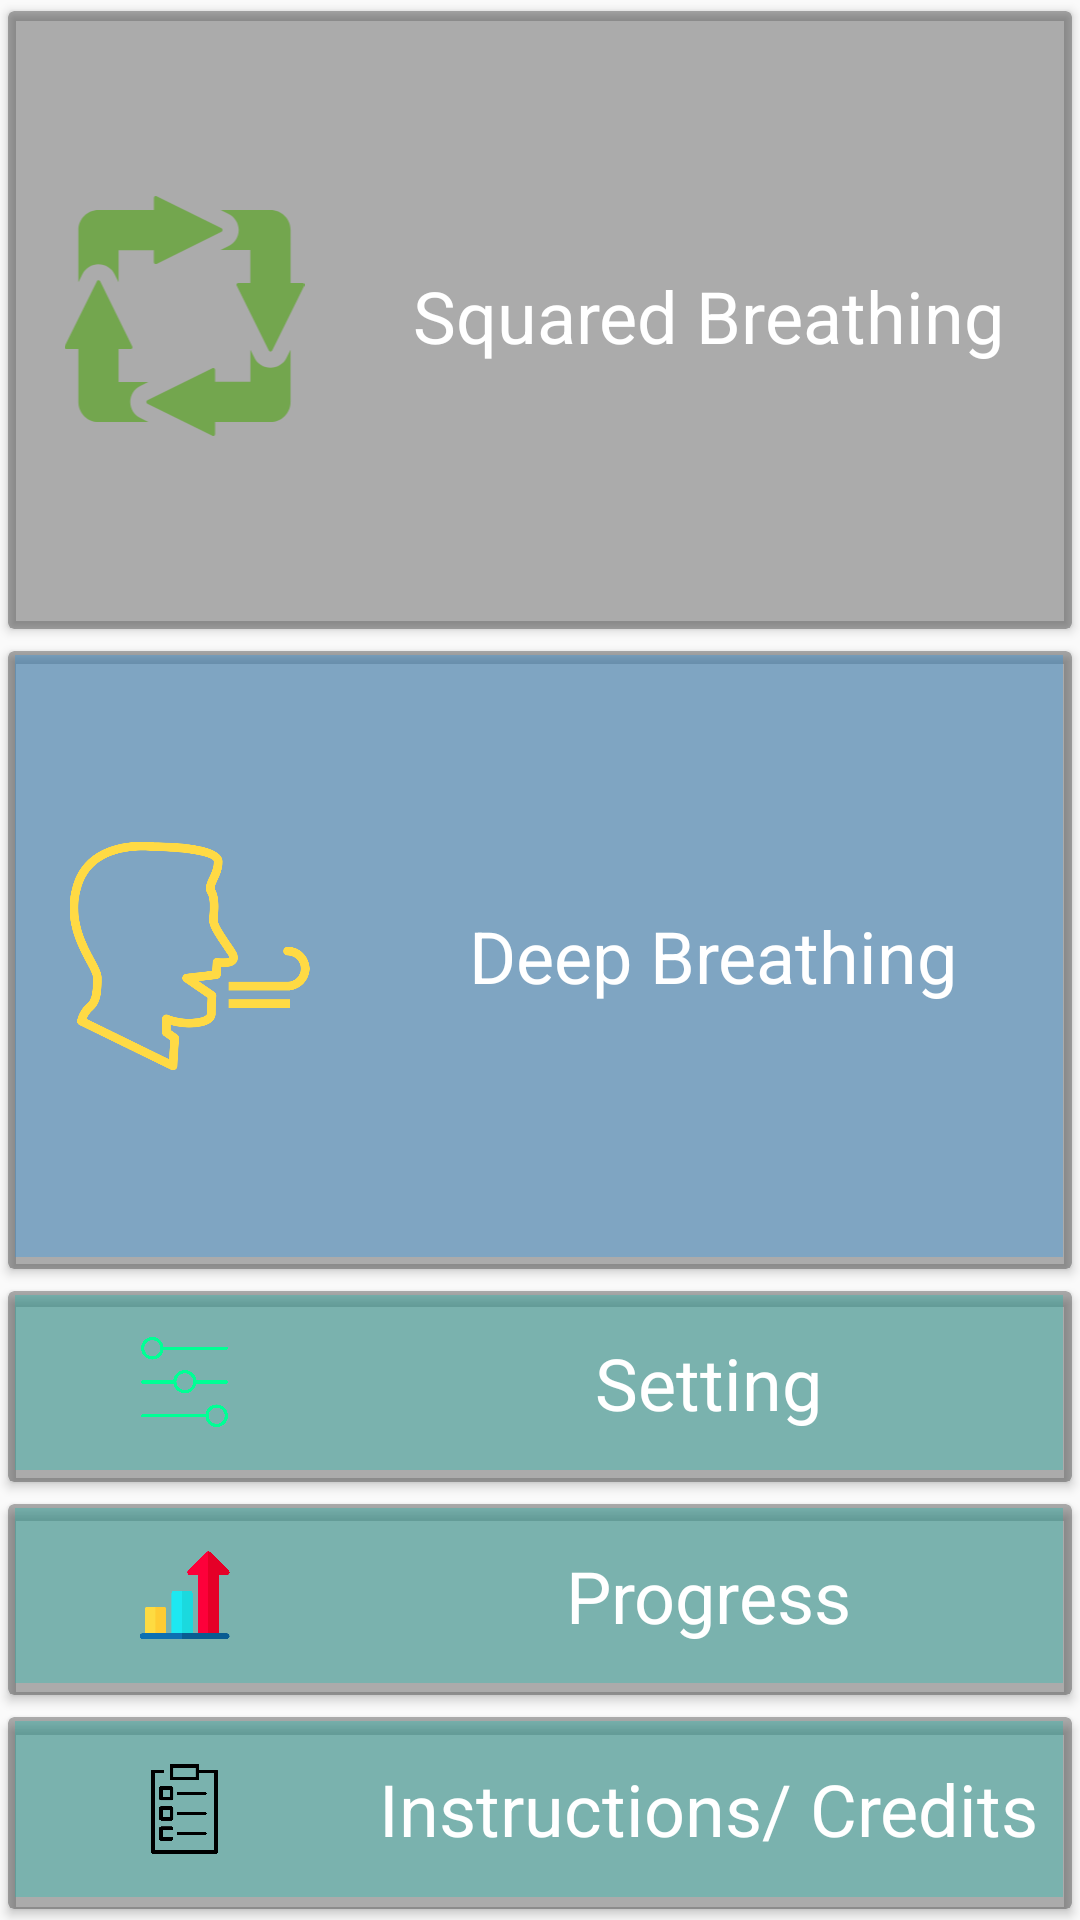

Icons on this 1080px x 1920px Android screen, each with the point to tap as [x,y]:
scoreboard icon: [185,1595]
